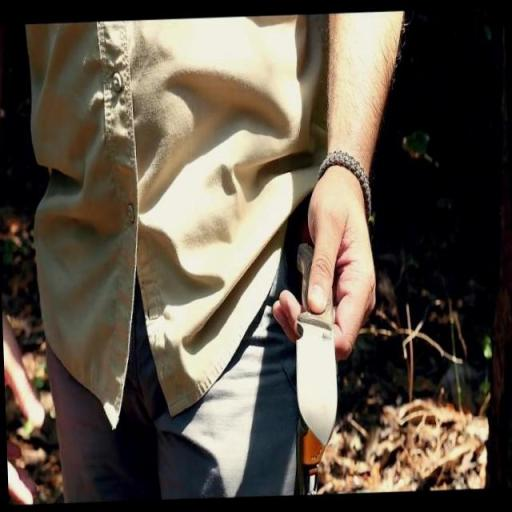knife: (266, 237, 384, 453)
